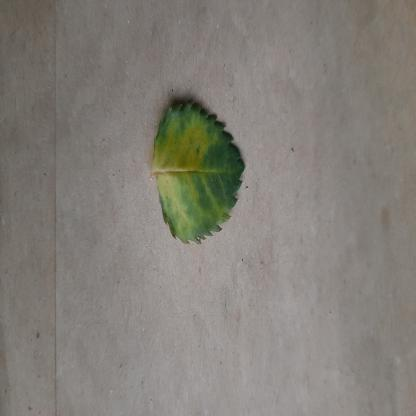black-spot: (149, 100, 247, 252)
